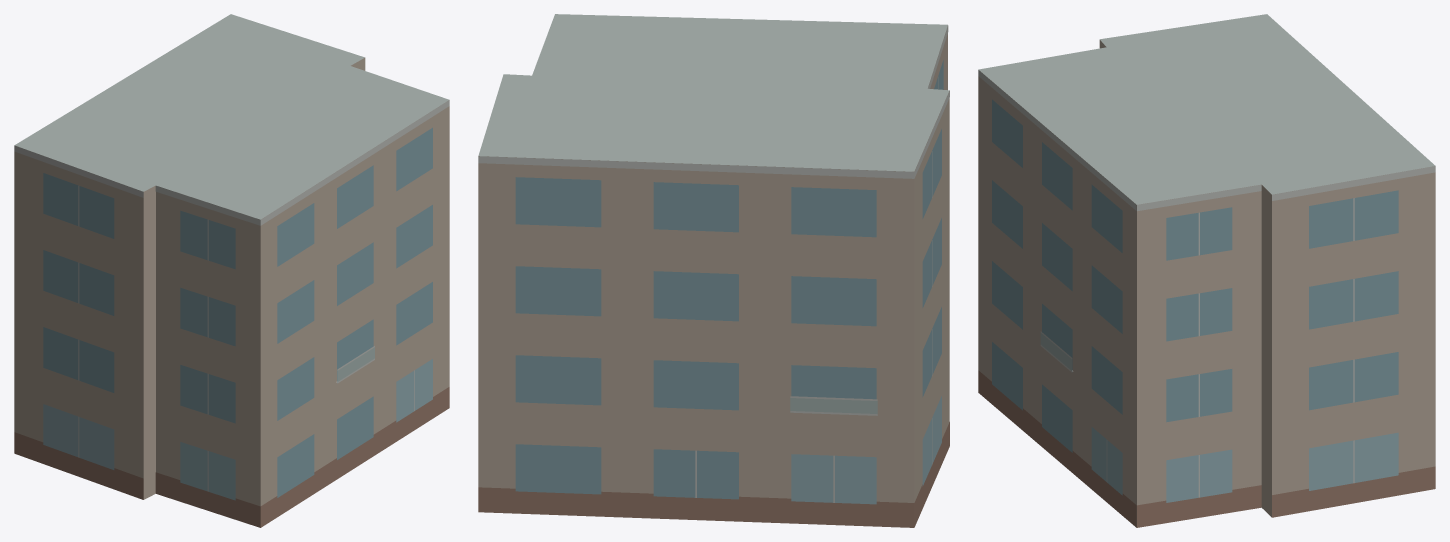
The model's file is survey-upis-32668796.glb.
3 renders of one model, left to right at view 1: azimuth 30°, elevation 25°; view 2: azimuth 150°, elevation 25°; view 3: azimuth 270°, elevation 25°, orthographic. The views are drawn at different scales.
Visible parts, largest first — view 1: survey-upis-32668796.tmp; view 2: survey-upis-32668796.tmp; view 3: survey-upis-32668796.tmp.
Part boxes in pixels (x1=…): survey-upis-32668796.tmp: x1=14, y1=14, x2=449, y2=527; survey-upis-32668796.tmp: x1=478, y1=14, x2=949, y2=527; survey-upis-32668796.tmp: x1=978, y1=14, x2=1435, y2=527.
Size of the model in its own units: 15.47 by 12.2 by 15.66.
